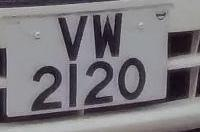0: (117, 54, 151, 103)
1: (60, 60, 87, 112)
2: (28, 63, 66, 115), (80, 57, 118, 109)
V: (50, 7, 90, 67)
W: (90, 5, 126, 63)
